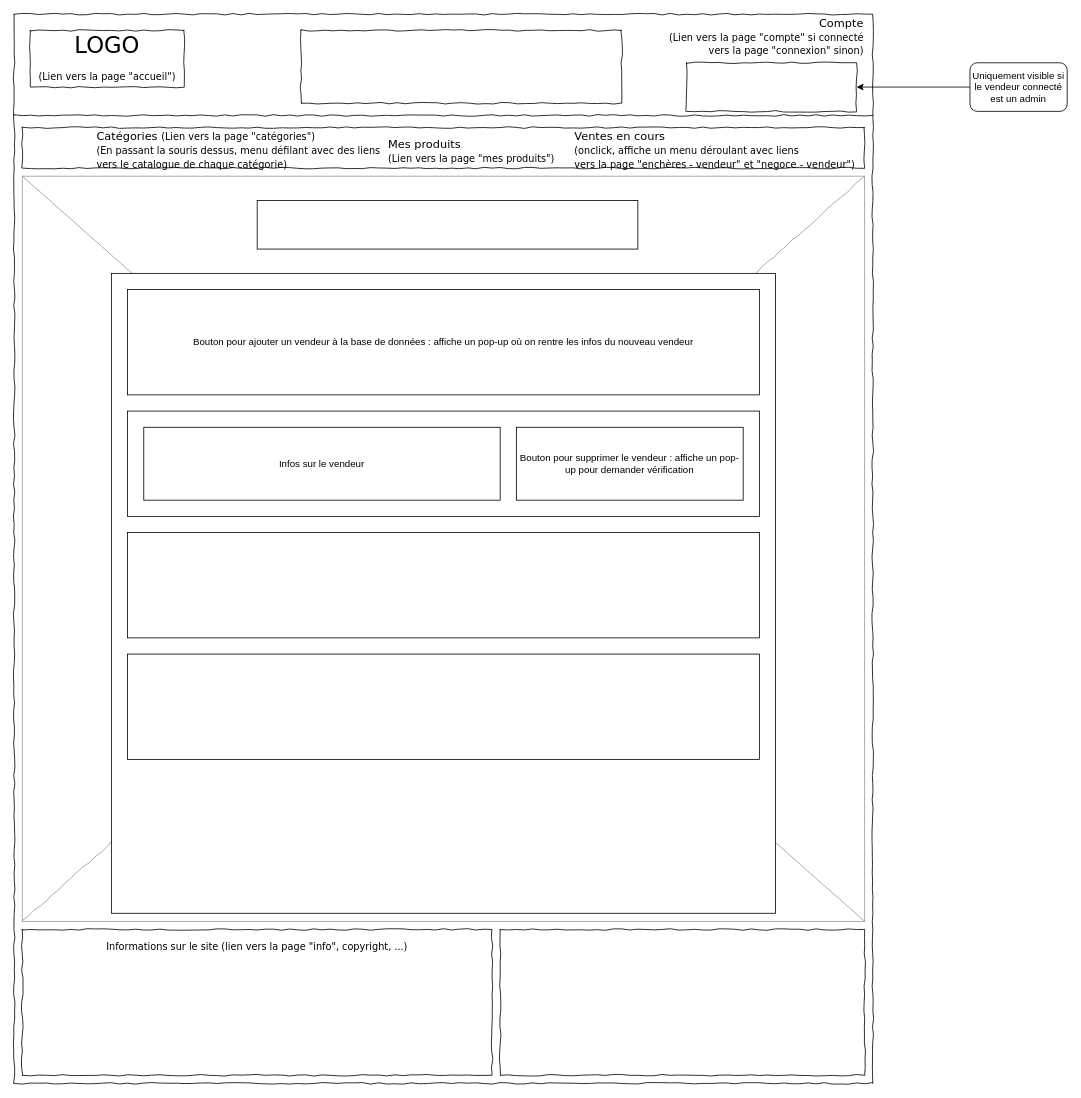
The diagram is 1081 pixels wide and 1098 high, and some of its shapes have lost their labels. The centre of each missing label's shape, as x and y in pixels:
Admin (Lien vers la page "liste vendeur"): point (771, 86)
Barre de recherche pour filtrer les vendeur par pseudos: point (447, 224)
Bienvenue ...: point (461, 66)
Nous contacter: point (682, 1002)
